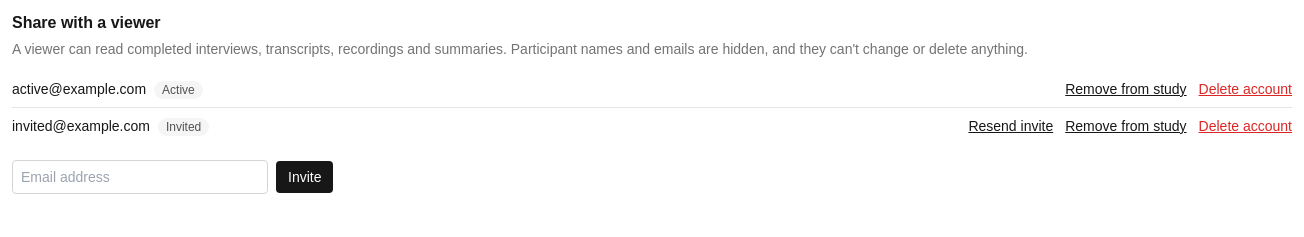
Test: SharePanel › tells the admin when no email was sent because the person already has an account
expect the text "active@example.com" is shown: met, box x1=12 y1=81 x2=146 y2=97
Type "active@example.com" into the field named "Email address to invite" at (140, 177), box x1=12 y1=160 x2=268 y2=194
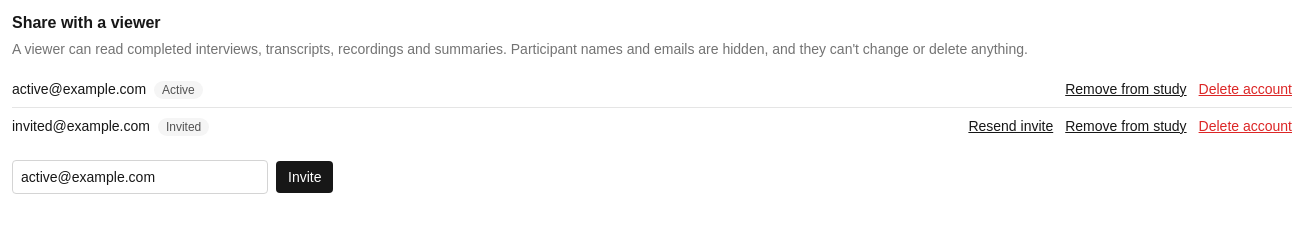
Click the button "Invite" at (305, 177), box x1=276 y1=161 x2=334 y2=193
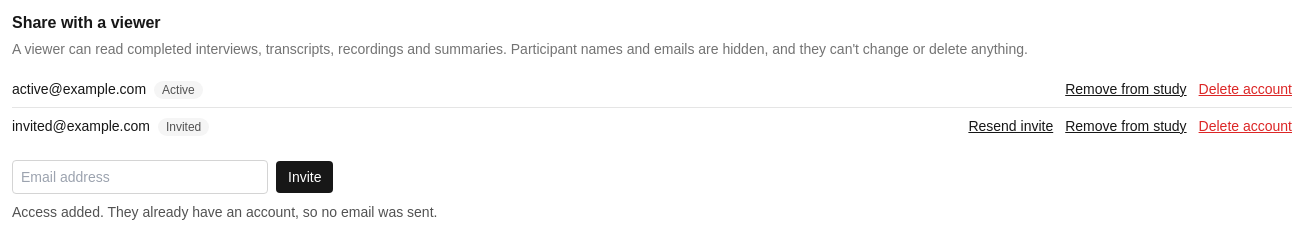
expect the message shows "no email was sent": met, box x1=12 y1=204 x2=437 y2=220
